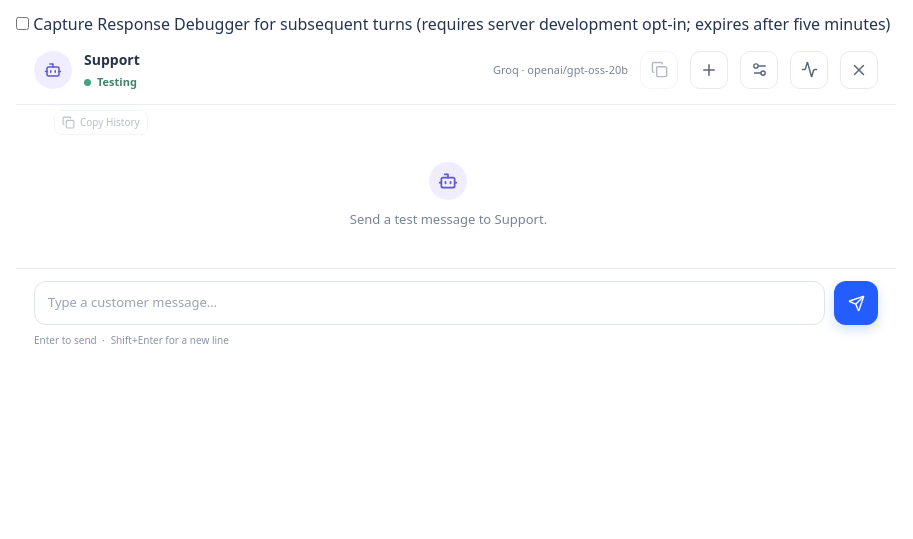
Scenario: PlaygroundChat › shows the actual provider on a newly generated reply instead of relying on current settings
Type "Please help" into the text box named "Message your assistant" at (430, 303), box left=34, top=281, right=825, bottom=325
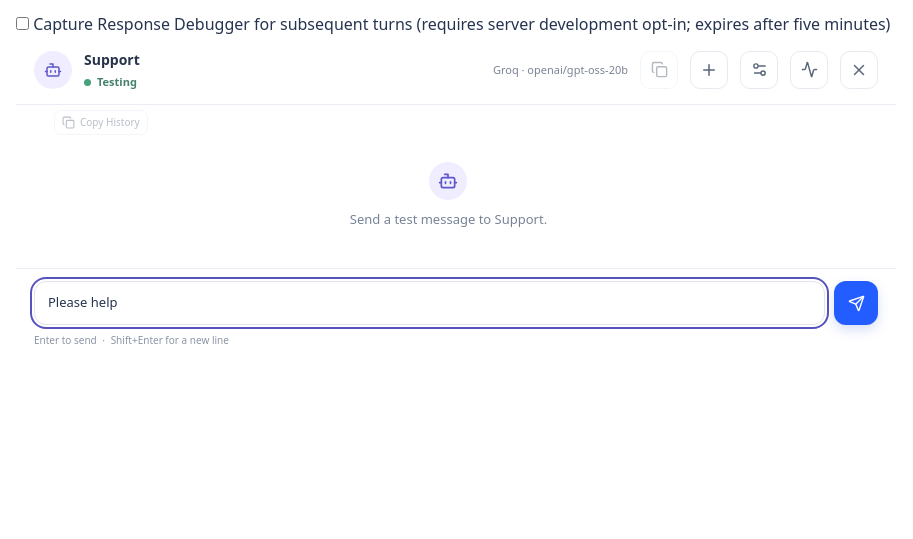
Click the button named "Send message" at (856, 303), box left=834, top=281, right=878, bottom=325
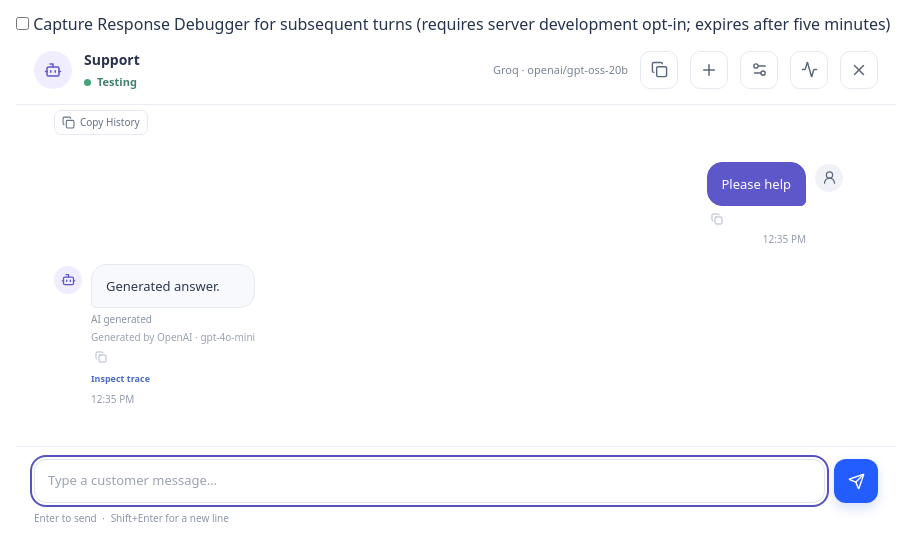
Expected: the text "Generated by OpenAI · gpt-4o-mini" is shown, left=91, top=331, right=255, bottom=344
